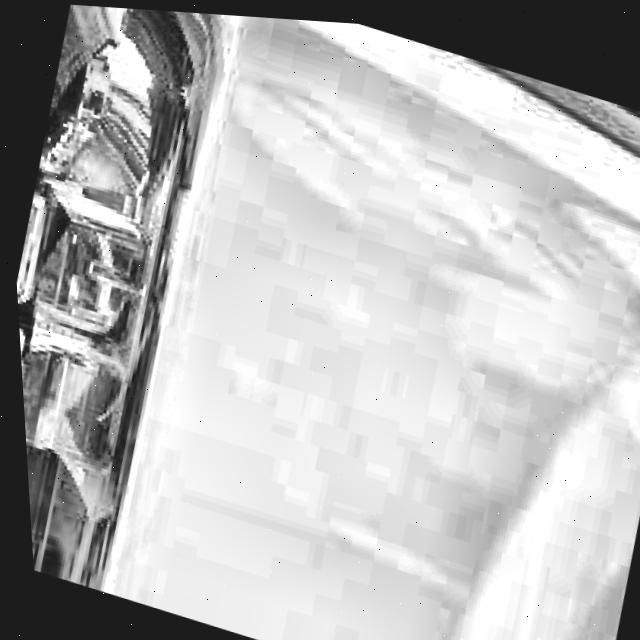tail_lamp: (0, 0, 252, 599)
